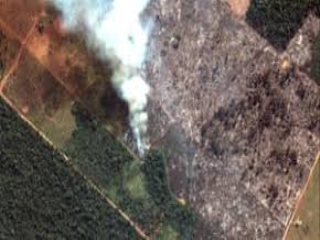smoke: (88, 13, 159, 165)
